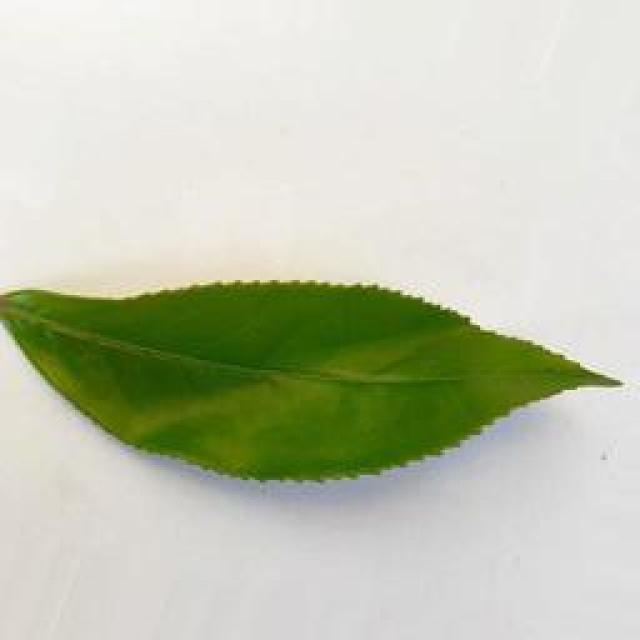Healthy: (5, 268, 640, 491)
